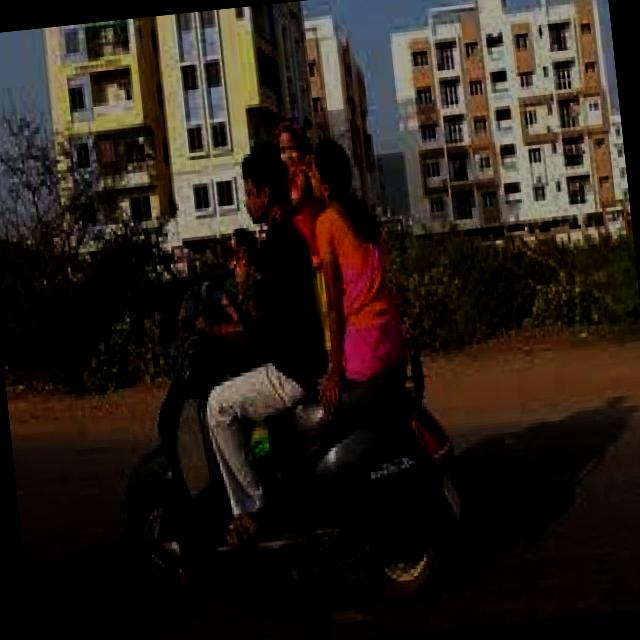motorcycle: (85, 242, 480, 632)
person: (193, 143, 335, 469), (278, 128, 420, 435), (242, 108, 363, 374), (177, 218, 304, 468)
rider_region: (74, 97, 477, 635)
